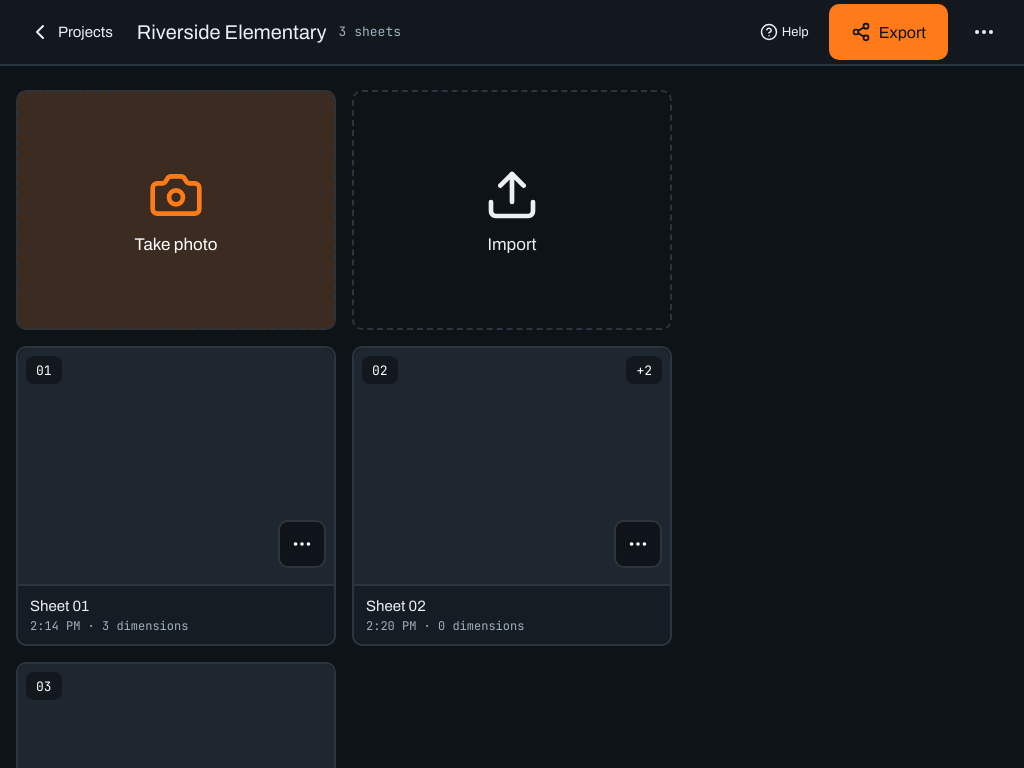
Test: reorder — the keyboard path (WCAG 2.1.1) and the drag › Move earlier is disabled at the first live position, Move later at the last
Click the button with test id "sheet-card-menu-s1" at {"x": 302, "y": 544}, box x1=278 y1=520 x2=326 y2=568
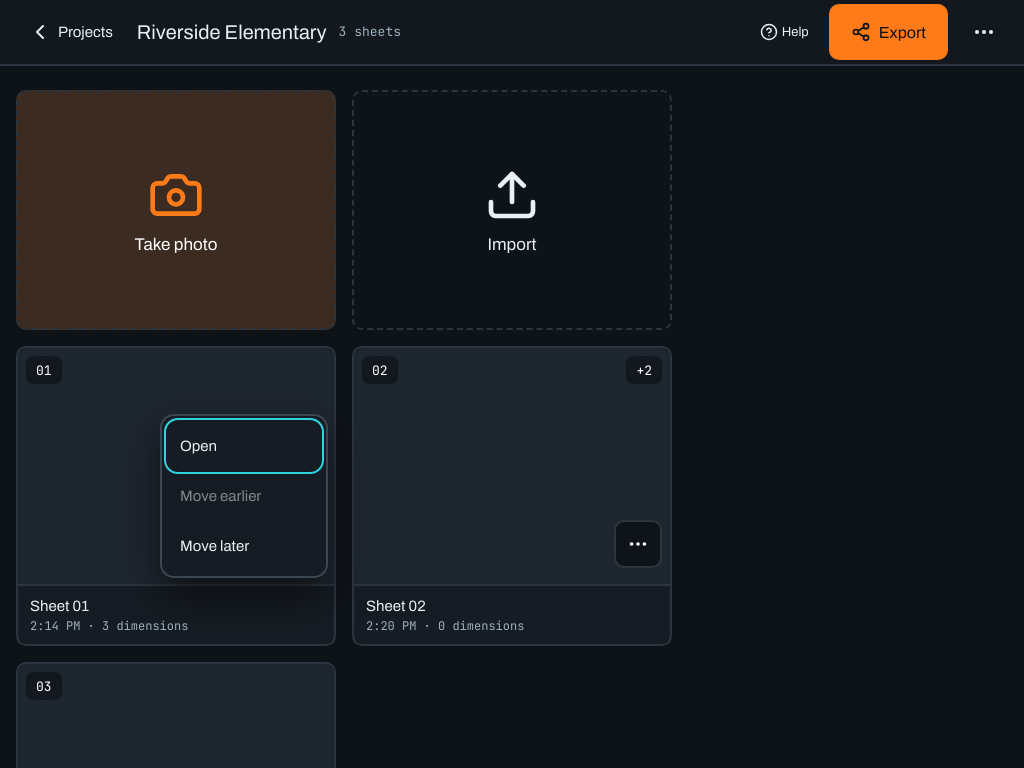
Expected: the menu item "Move earlier" is disabled, x1=168 y1=472 x2=320 y2=520
Press Escape
(page scrolled)
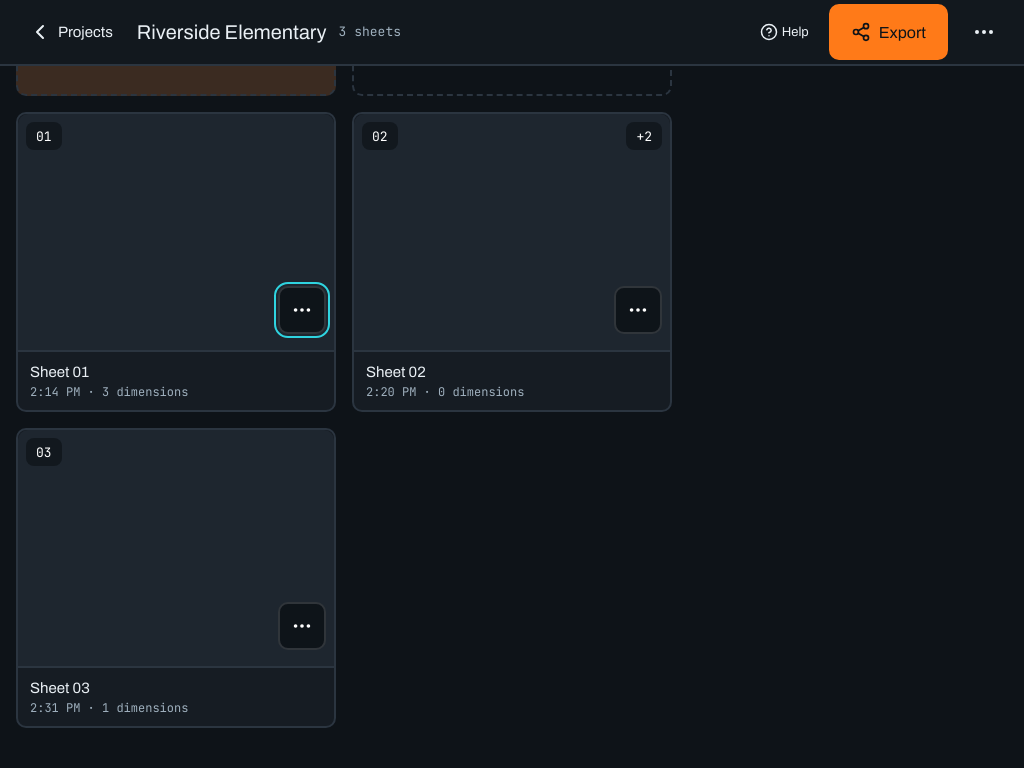
Click the button named "More actions for Sheet 03" at {"x": 302, "y": 626}, box x1=278 y1=602 x2=326 y2=650
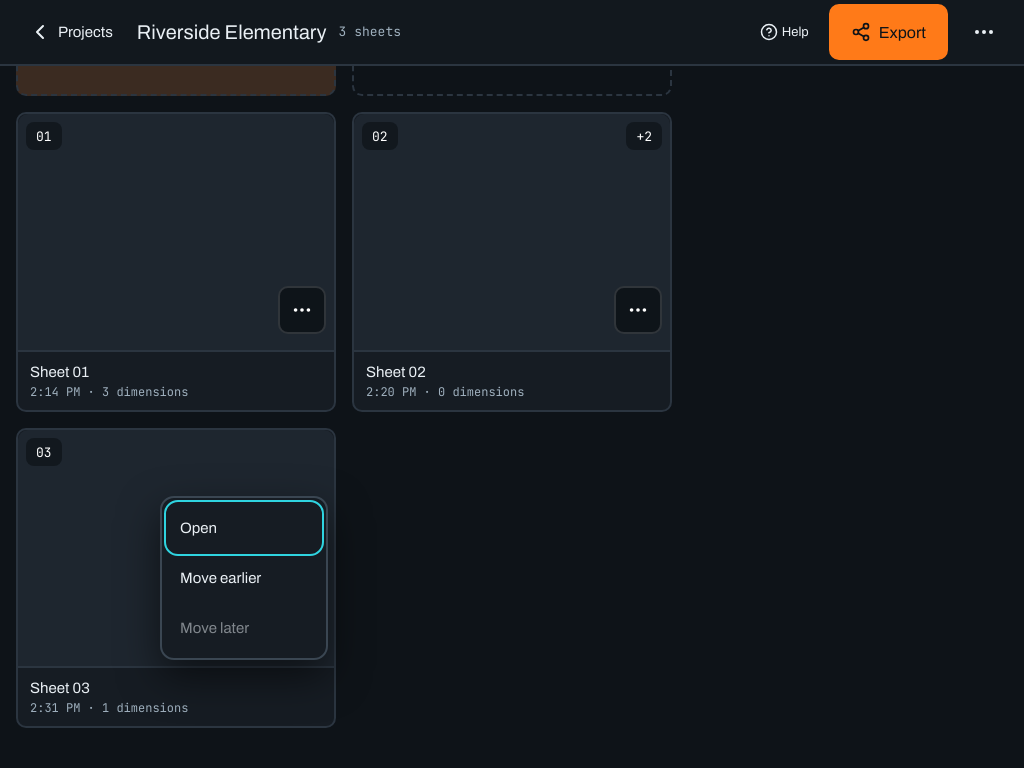
Expected: the menu item "Move later" is disabled, x1=168 y1=604 x2=320 y2=652
